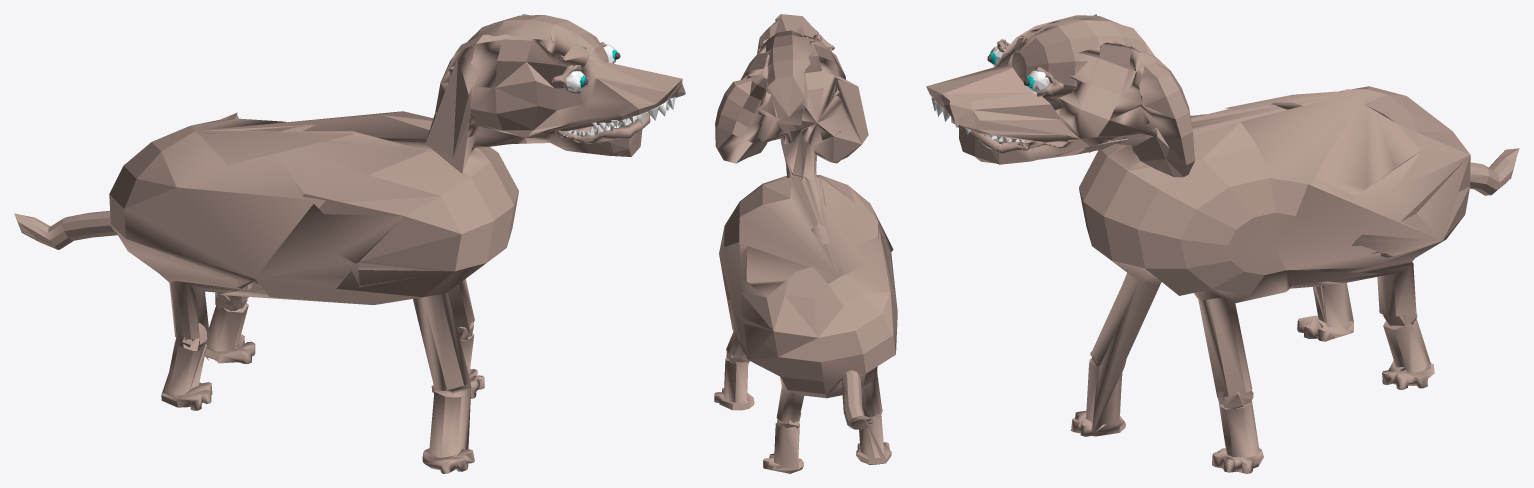
Rendered from angry-dog.gltf.
3 renders of one model, left to right at view 1: azimuth 30°, elevation 25°; view 2: azimuth 150°, elevation 25°; view 3: azimuth 270°, elevation 25°, orthographic. The views are drawn at different scales.
Parts seen in each view (by area): view 1: mesh677168074, mesh1612722090; view 2: mesh677168074; view 3: mesh677168074, mesh1612722090.
Boxes of the visible parts, x1=… form: mesh677168074: x1=14, y1=14, x2=685, y2=473; mesh1612722090: x1=555, y1=113, x2=650, y2=143; mesh677168074: x1=714, y1=14, x2=897, y2=473; mesh677168074: x1=926, y1=14, x2=1519, y2=473; mesh1612722090: x1=951, y1=117, x2=1045, y2=153.
Size of the model in its own units: 2.56 by 2.6 by 3.12.
